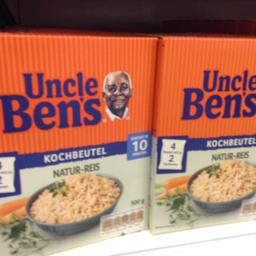rice: (0, 30, 159, 255), (150, 33, 255, 232)
